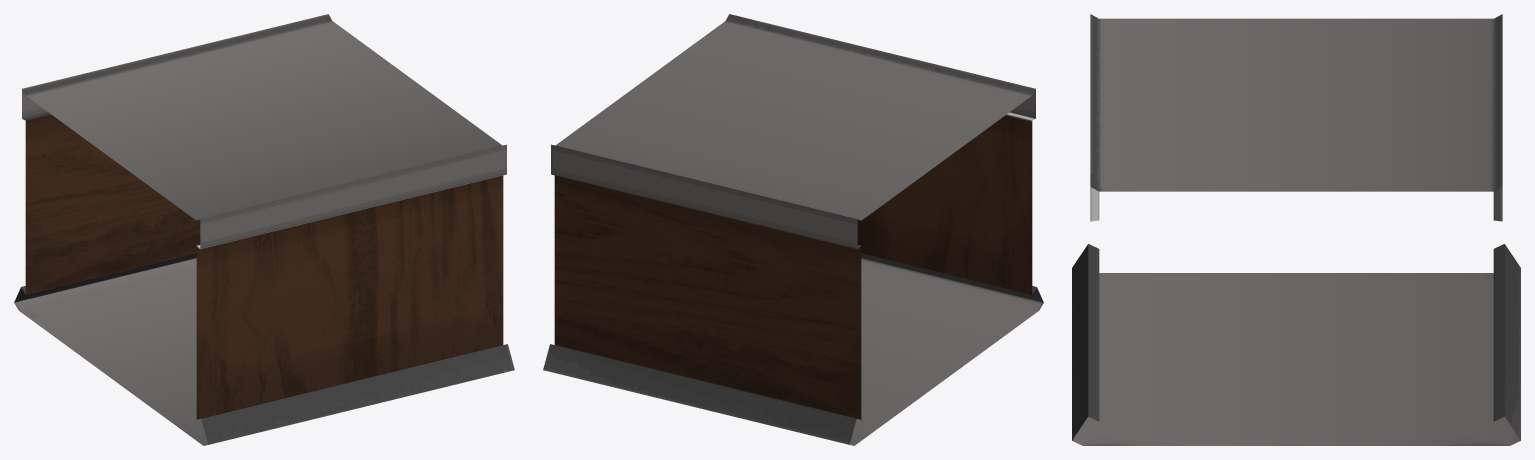
The model's file is SM_FlotiingPlateforme_Fill.fbx.
The picture shows the model from 3 angles, left to right: view 1: azimuth 30°, elevation 25°; view 2: azimuth 150°, elevation 25°; view 3: azimuth 270°, elevation 25°; orthographic projection. The views are drawn at different scales.
Visible parts, largest first — view 1: fill; view 2: fill; view 3: fill.
Part boxes in pixels (x1,y1,x2,y2): fill: (14,14,514,445); fill: (543,14,1043,445); fill: (1072,14,1520,445).
Size of the model in its own units: 250 by 175 by 274.
